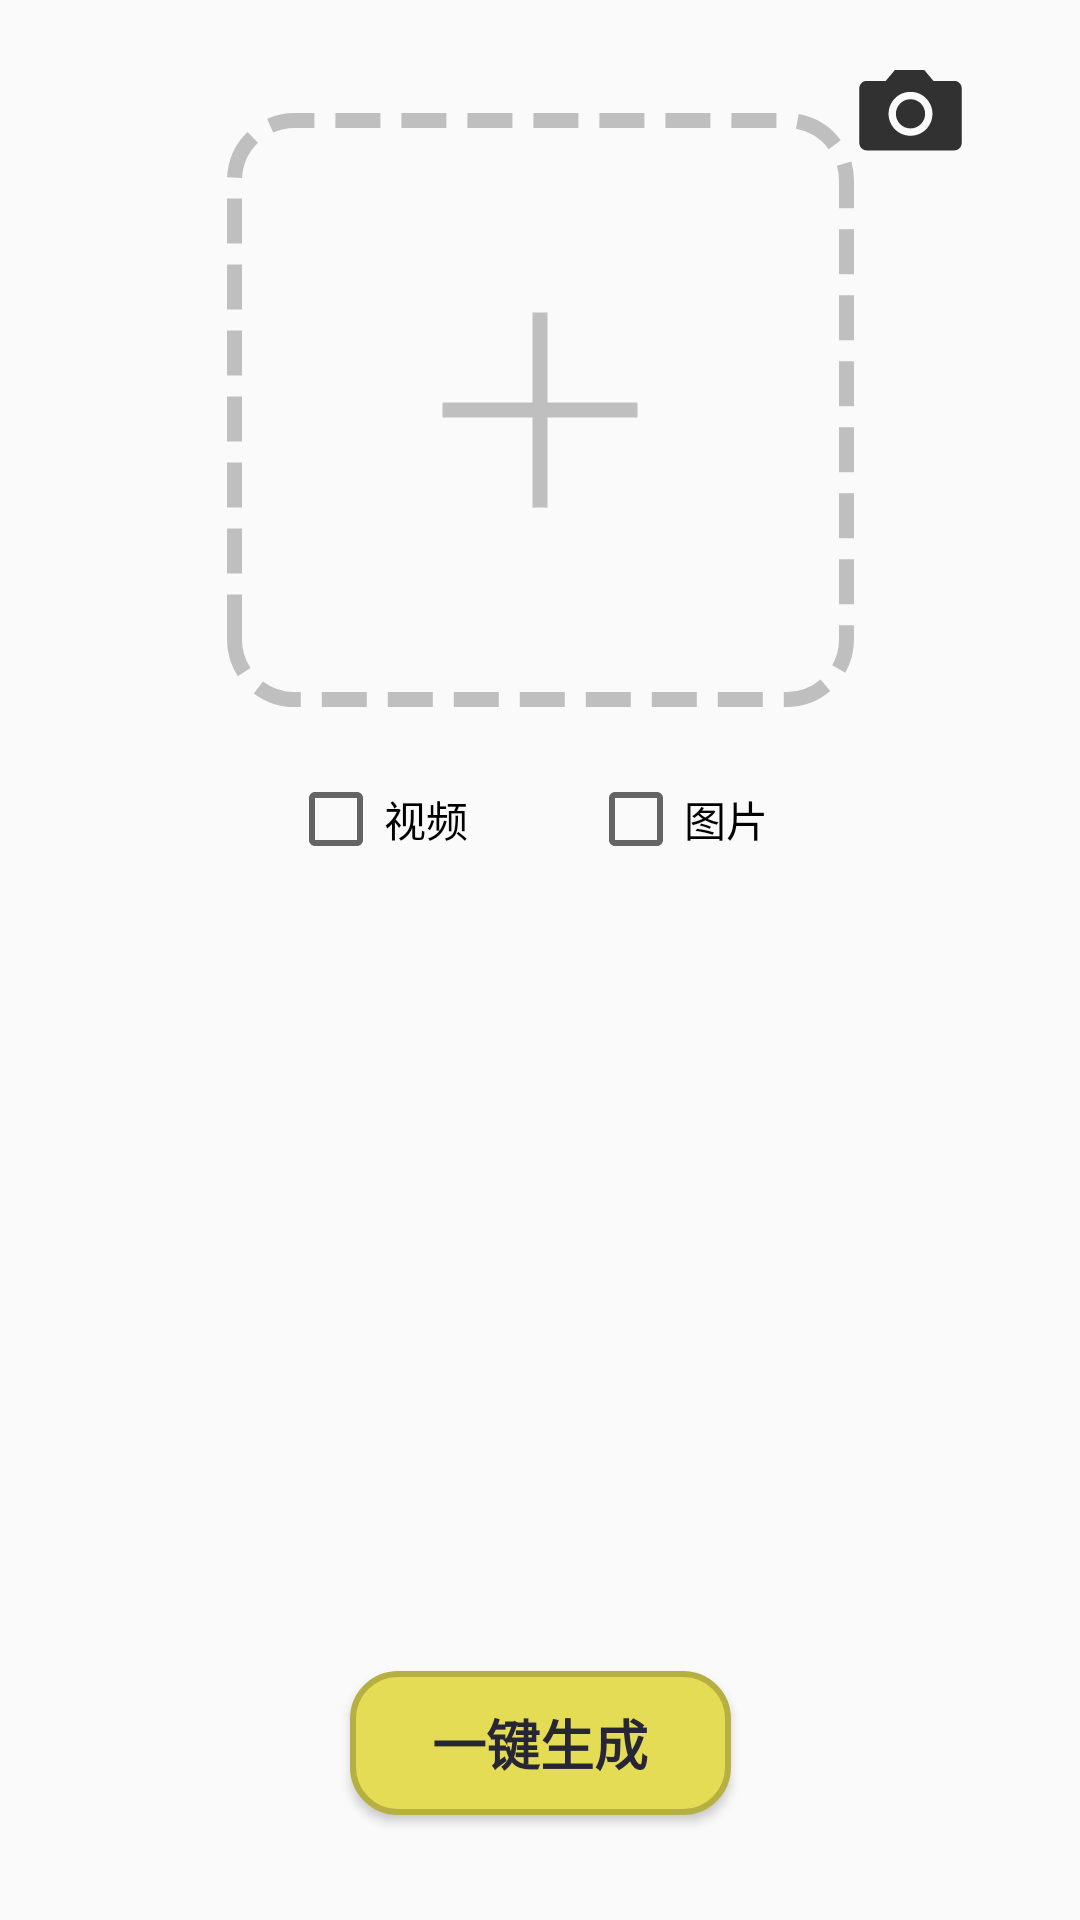

Named icons in this screenshot (1080px×1920px) and their centers, [x,y]:
take photo: [910,110]
